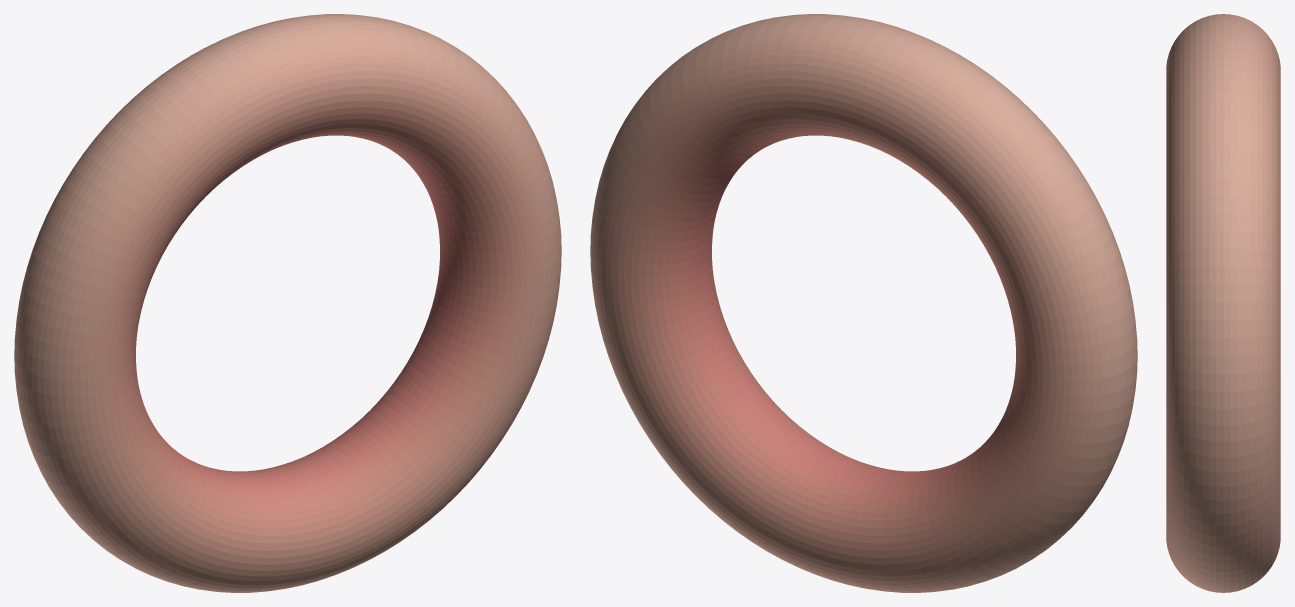
The picture shows the model from 3 angles, left to right: view 1: azimuth 30°, elevation 25°; view 2: azimuth 150°, elevation 25°; view 3: azimuth 270°, elevation 25°; orthographic projection. The views are drawn at different scales.
Visible parts, largest first — view 1: world; view 2: world; view 3: world.
Boxes of the visible parts, bbox=[...] form: world: bbox=[14, 14, 561, 592]; world: bbox=[590, 14, 1137, 592]; world: bbox=[1166, 14, 1280, 592].
Bounding box in the file's own units: 31.6 × 31.6 × 6.25.
